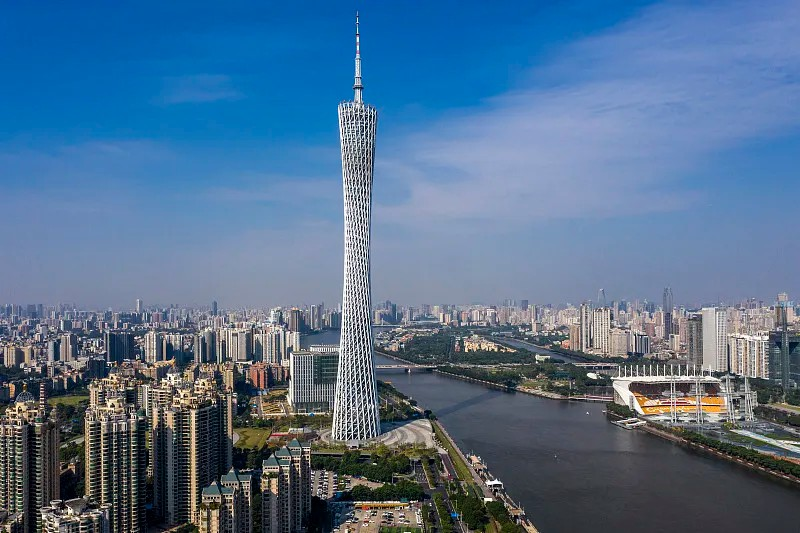Canton: (329, 8, 380, 442)
